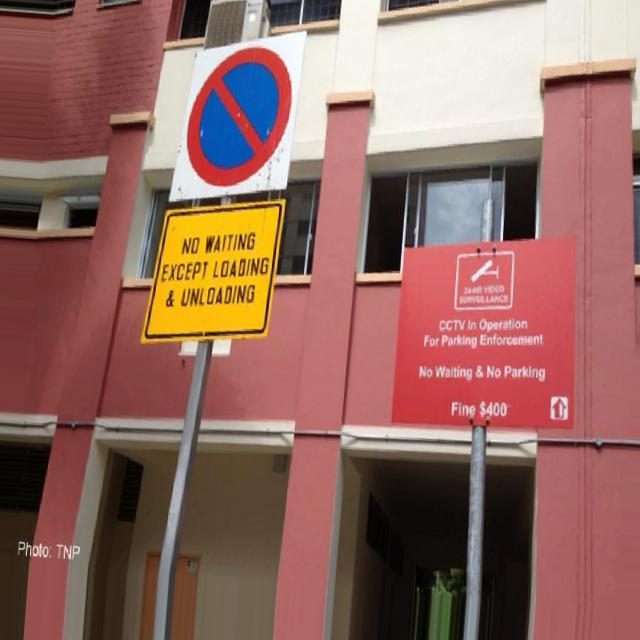forb_stopping: (188, 45, 291, 190)
